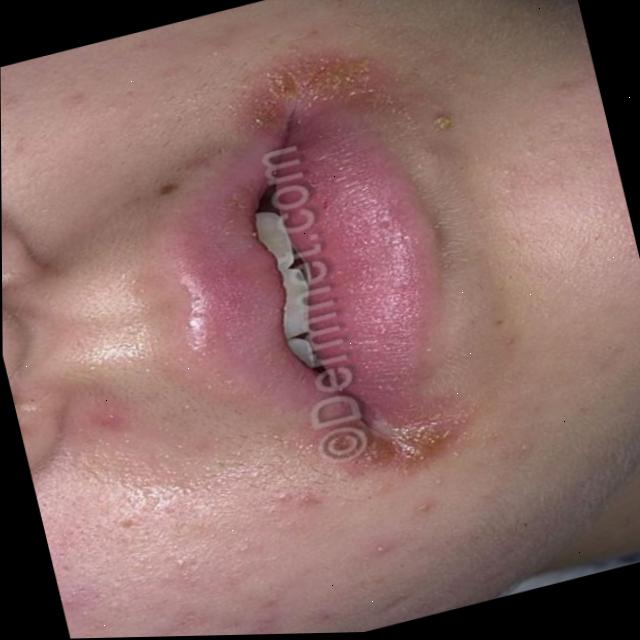Rosacea: (103, 379, 520, 638), (218, 30, 452, 179)
